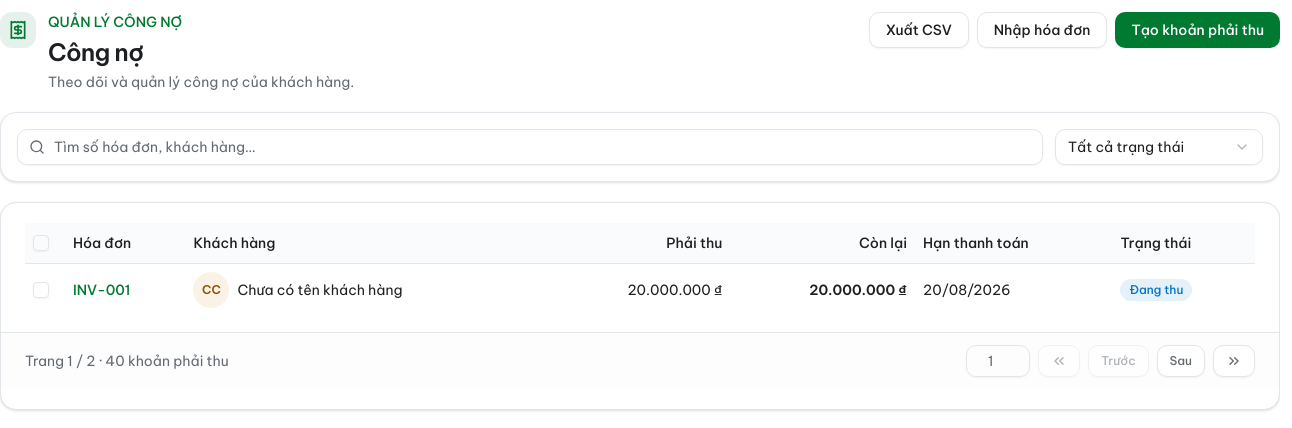
Test: ReceivablesPage › keeps the current page and pagination on screen while the next page loads
Expected: the text "Trang 1 / 2 · 40 khoản phải thu" is shown, x1=25 y1=350 x2=229 y2=370
What coordinates should you click on to do the following:
click the button "Sau"
I would click on:
 (1181, 360)
Its box is x1=1157 y1=344 x2=1205 y2=376.
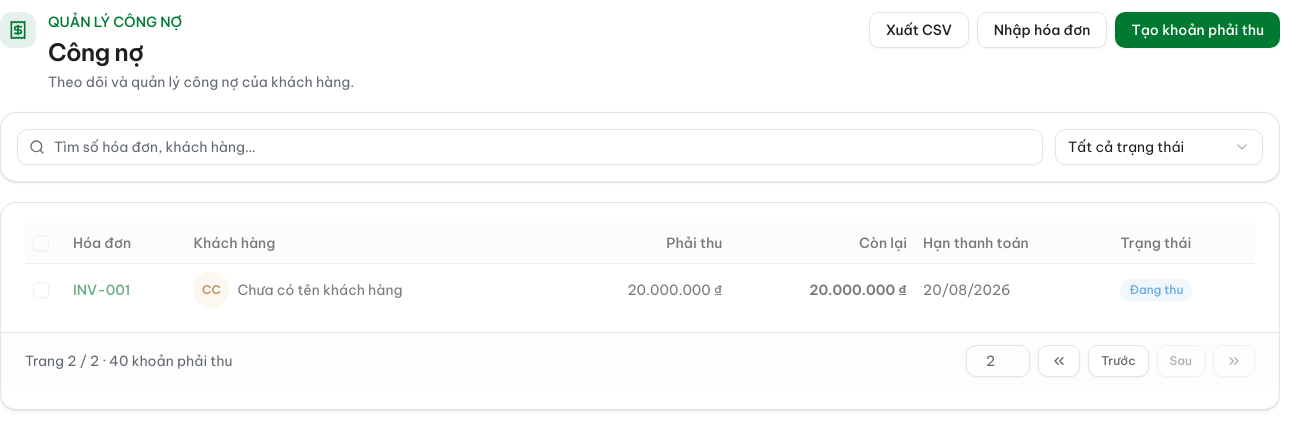
Expected: the link "INV-001" is shown, x1=73 y1=280 x2=130 y2=298
Expected: the text "Trang 2 / 2 · 40 khoản phải thu" is shown, x1=25 y1=350 x2=232 y2=370
